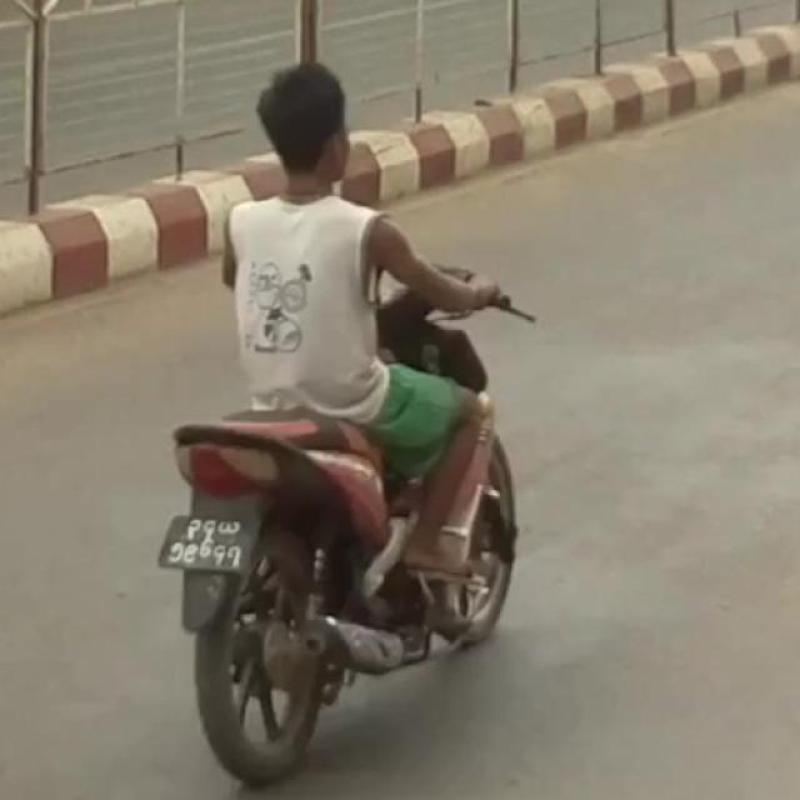nohelmet: (254, 43, 406, 220)
